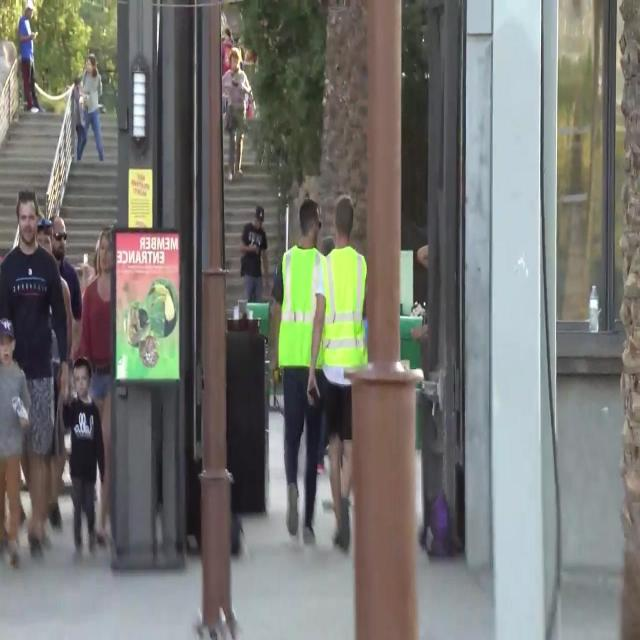Reflective-Jacket: (317, 244, 373, 388), (274, 242, 330, 380)
Safety-Helmet: (1, 316, 15, 339)
